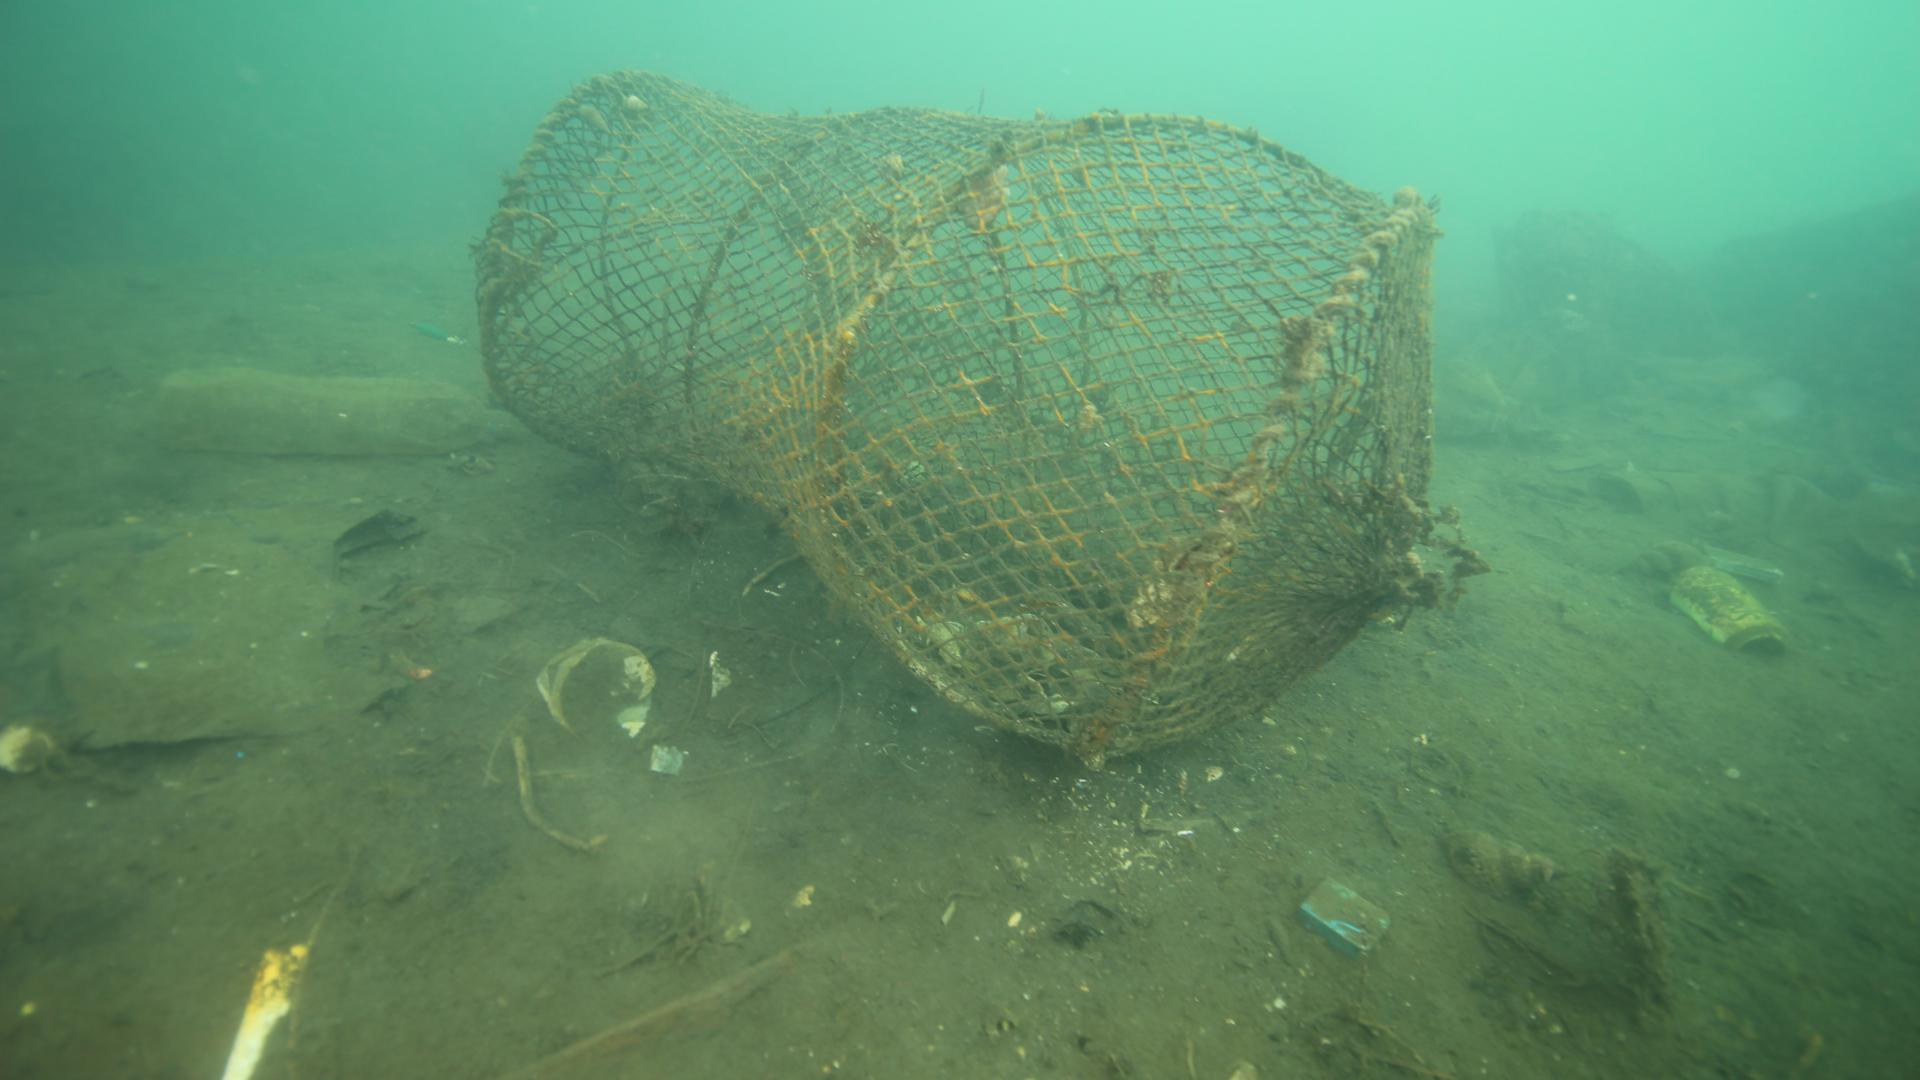spring fish trap: (467, 65, 1443, 775)
